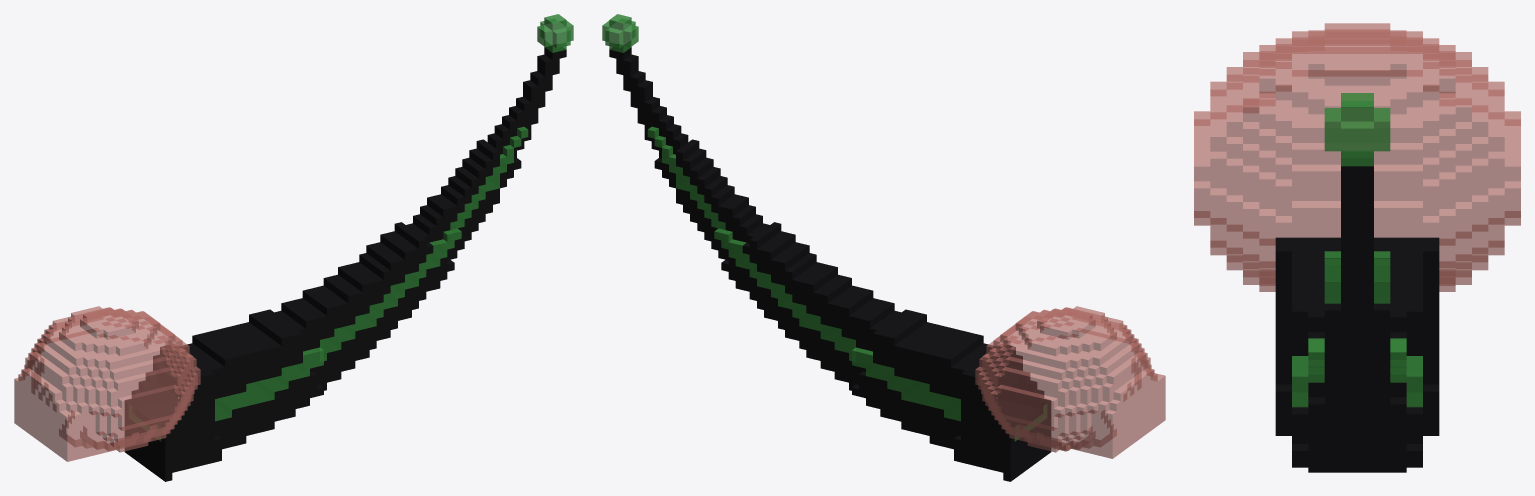
Rendered from demon_spider_fang.glb.
3 renders of one model, left to right at view 1: azimuth 30°, elevation 25°; view 2: azimuth 150°, elevation 25°; view 3: azimuth 270°, elevation 25°, orthographic. The views are drawn at different scales.
Visible parts, largest first — view 1: demon_spider_fang:compound; view 2: demon_spider_fang:compound; view 3: demon_spider_fang:compound.
Boxes of the visible parts, box(x1,y1,x2,y2) form: demon_spider_fang:compound: box(14, 14, 573, 481); demon_spider_fang:compound: box(602, 14, 1165, 481); demon_spider_fang:compound: box(1194, 23, 1520, 472).
Bounding box in the file's own units: 0.15 × 0.094 × 0.04.
